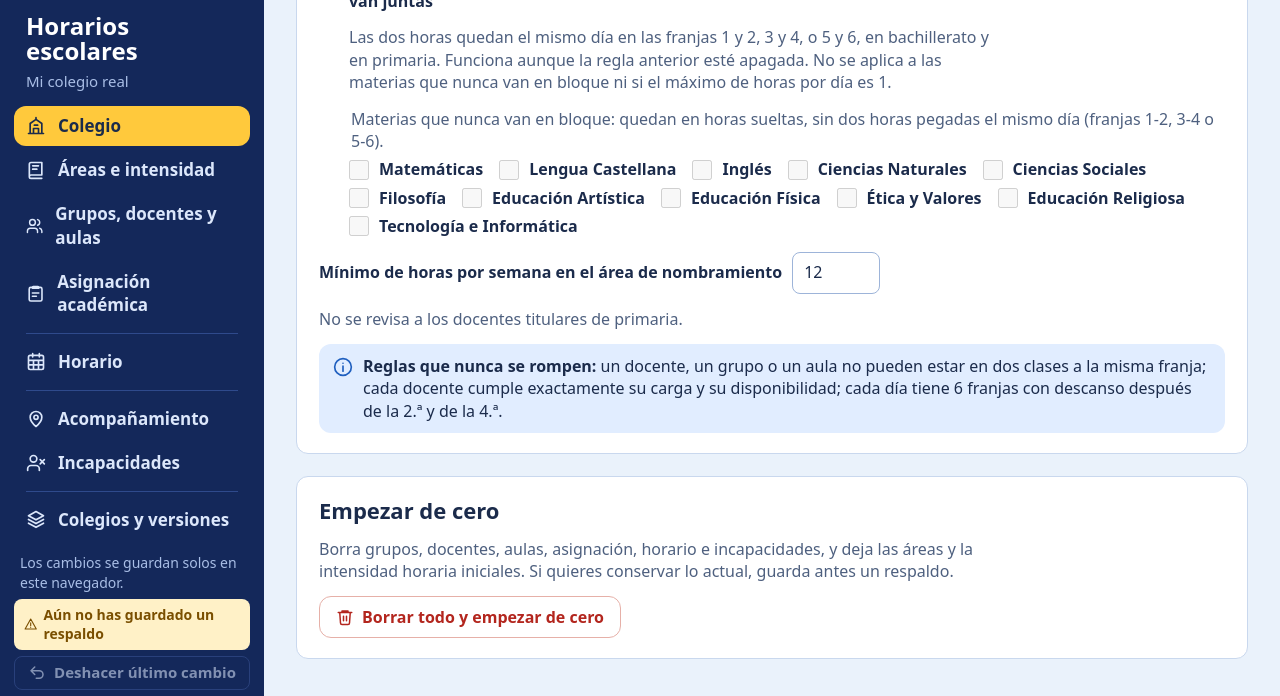
Scenario: la app › siempre se puede borrar todo y empezar de cero, aunque el colegio ya tenga otro nombre
(page scrolled)
Click the button "Borrar todo y empezar de cero": (470, 617) [319,596,621,638]
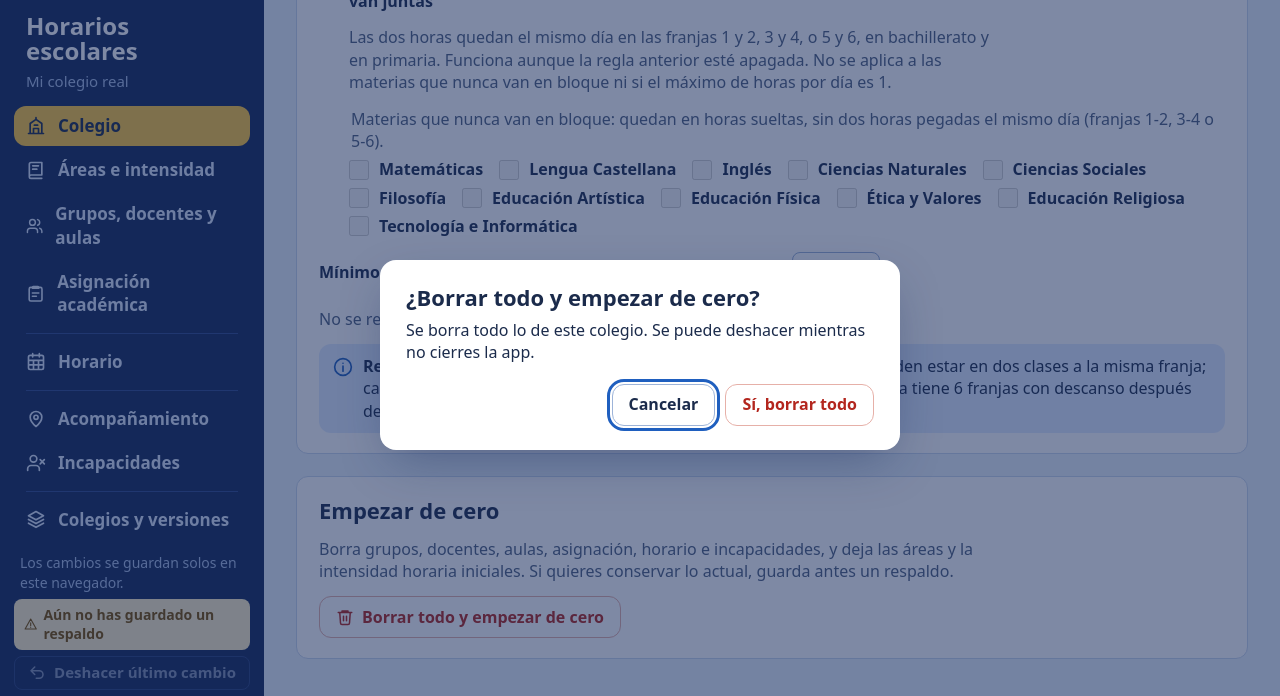
Click the button "Sí, borrar todo": (800, 405) [725,384,874,426]
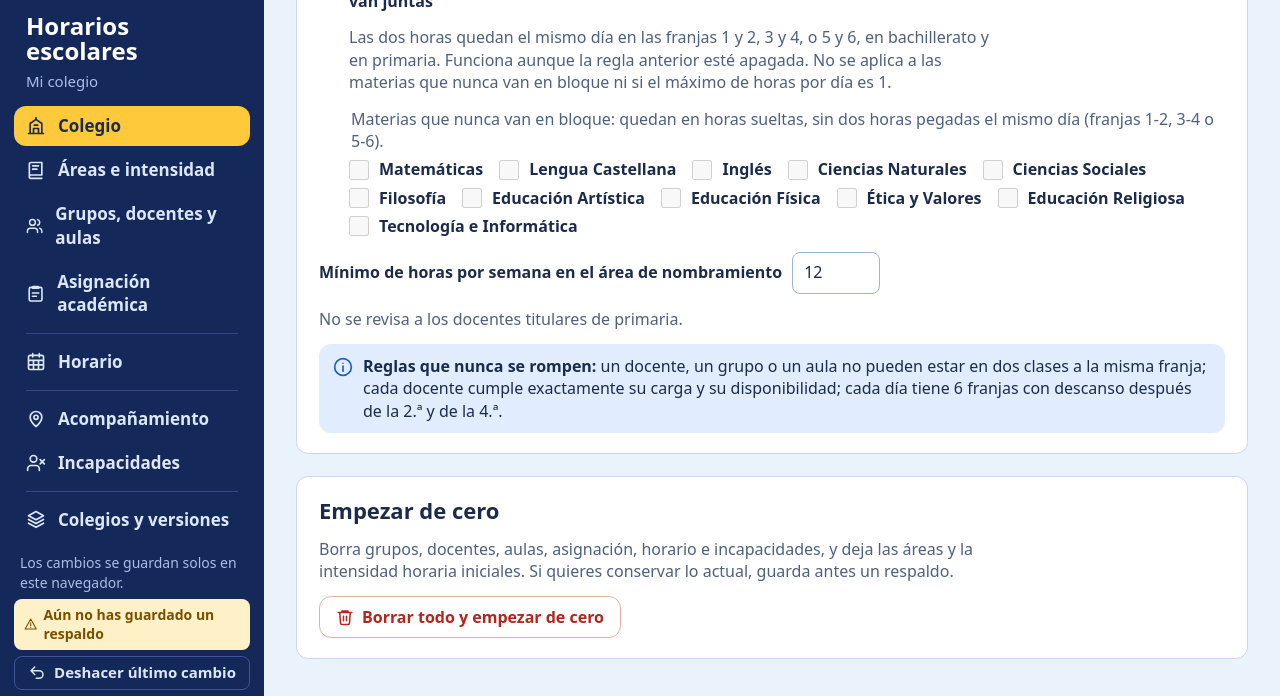
Click the button "Grupos, docentes y aulas": (132, 226) [14,194,250,258]
(page scrolled)
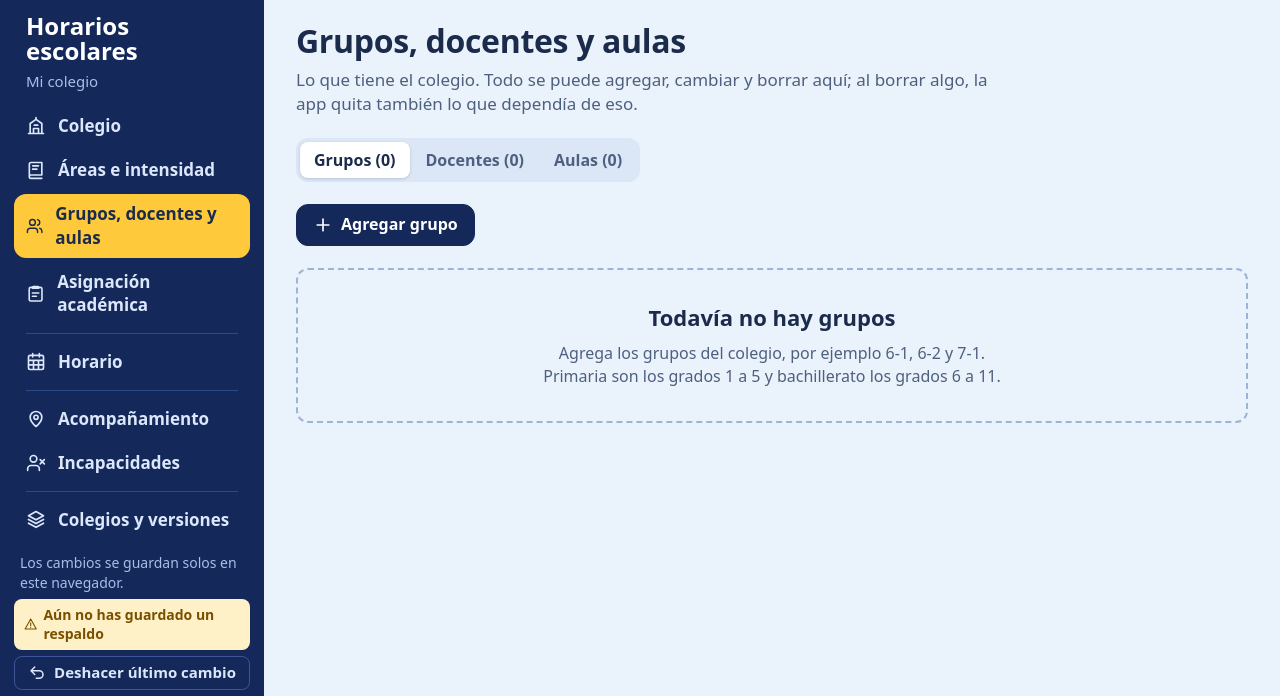
Result: the heading "Todavía no hay grupos" is shown at [648,304,895,330]
